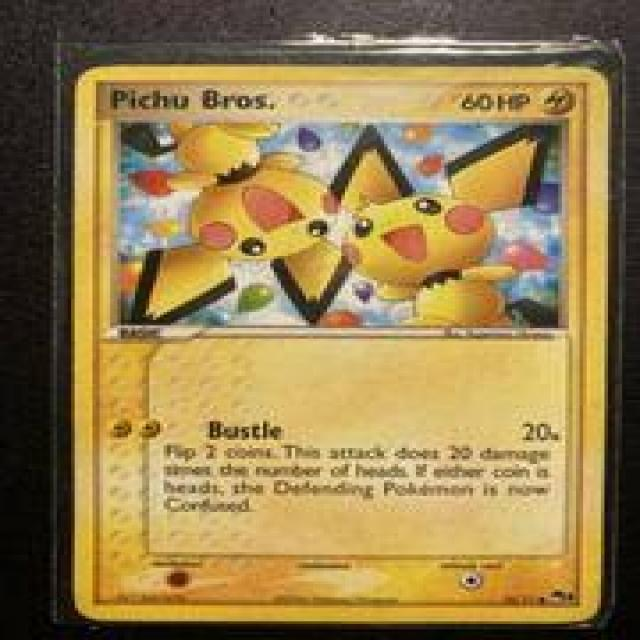pichu: (140, 120, 366, 326), (377, 135, 558, 331)
